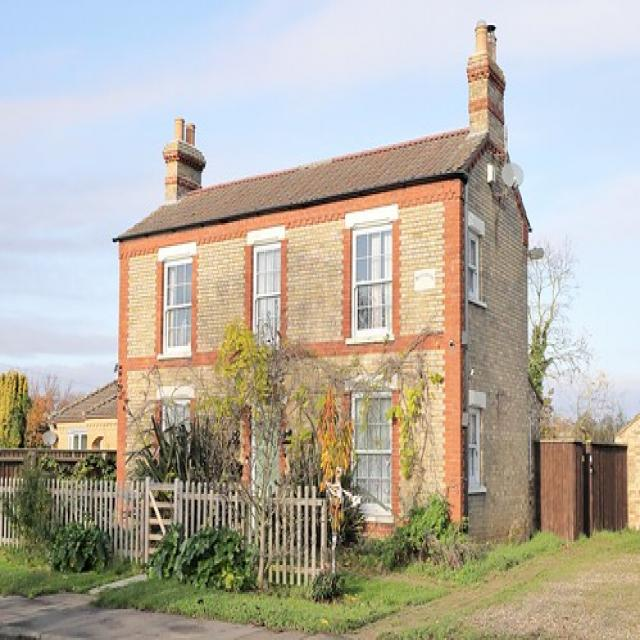Normal_building: (103, 83, 537, 567)
